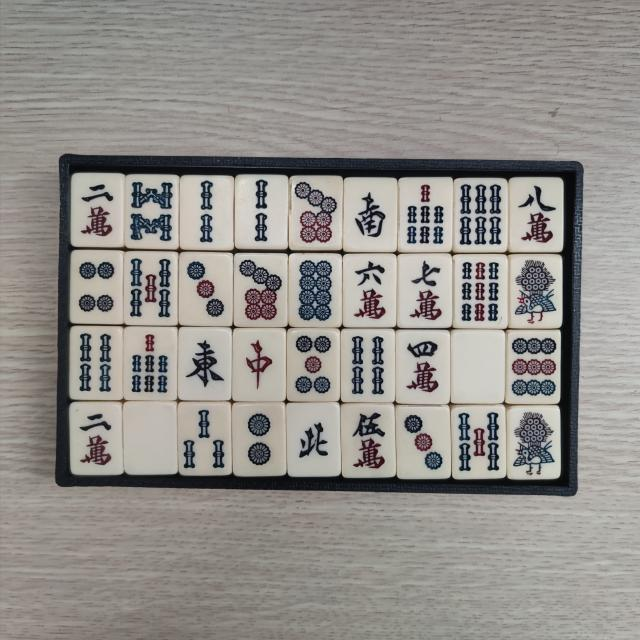hdr: (238, 333, 282, 397)
hdw: (458, 335, 502, 398), (129, 406, 172, 469)
hwe: (183, 332, 228, 397)
hwn: (292, 408, 334, 471)
hws: (348, 182, 392, 248)
sb1: (512, 258, 558, 326), (511, 410, 557, 476)
sb2: (186, 178, 230, 246), (241, 178, 285, 244)
sb3: (182, 404, 228, 470)
sb4: (344, 333, 390, 399), (76, 330, 118, 395)
sb5: (457, 408, 502, 473), (127, 256, 172, 321)
sb6: (458, 181, 505, 247)
sb7: (402, 181, 448, 248), (127, 330, 173, 396)
sb8: (128, 179, 174, 246)
sb9: (459, 258, 504, 325)
sc2: (75, 179, 118, 244), (76, 408, 118, 472)
sc4: (402, 334, 446, 398)
sc5: (346, 408, 390, 473)
sc6: (347, 258, 391, 324)
sc7: (404, 258, 446, 324)
sc8: (514, 182, 559, 248)
sd2: (238, 406, 280, 472)
sd3: (185, 256, 230, 323), (401, 412, 446, 476)
sd4: (76, 256, 119, 320)
sd5: (292, 333, 336, 397)
sd7: (294, 180, 340, 247), (238, 257, 284, 324)
sd8: (295, 258, 338, 324)
sd9: (512, 335, 559, 400)
